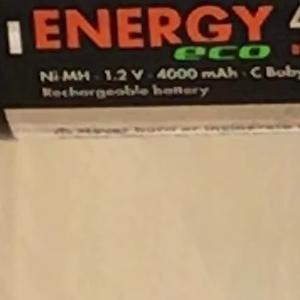keyword: (31, 62, 97, 90)
